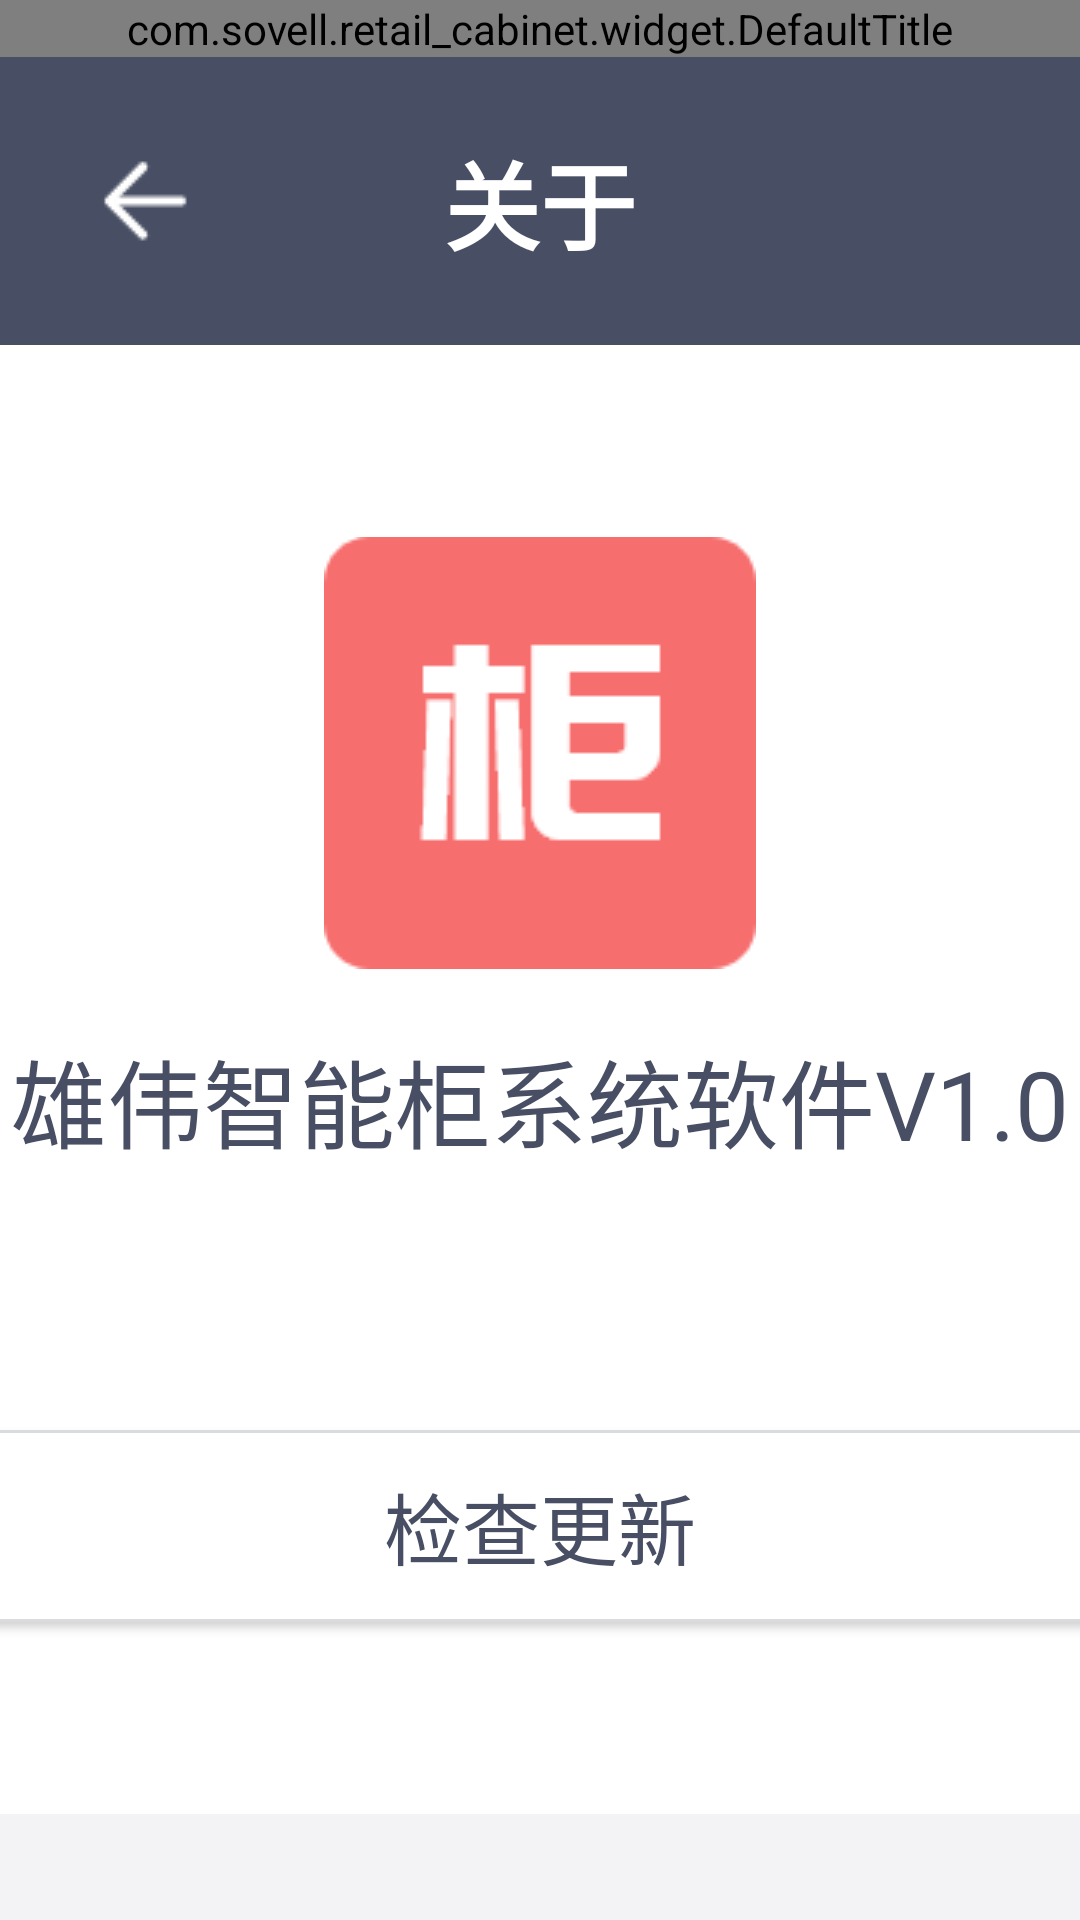

Locate icon controls on the screen. Image size 1080px x 1920px, boxes as box(x1, y1, x2, y2).
back: box(104, 161, 187, 241)
